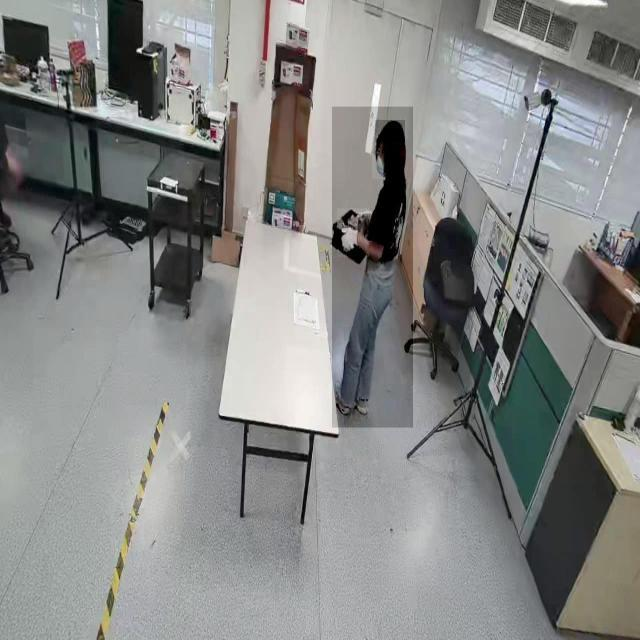gloves: (337, 208, 369, 257)
